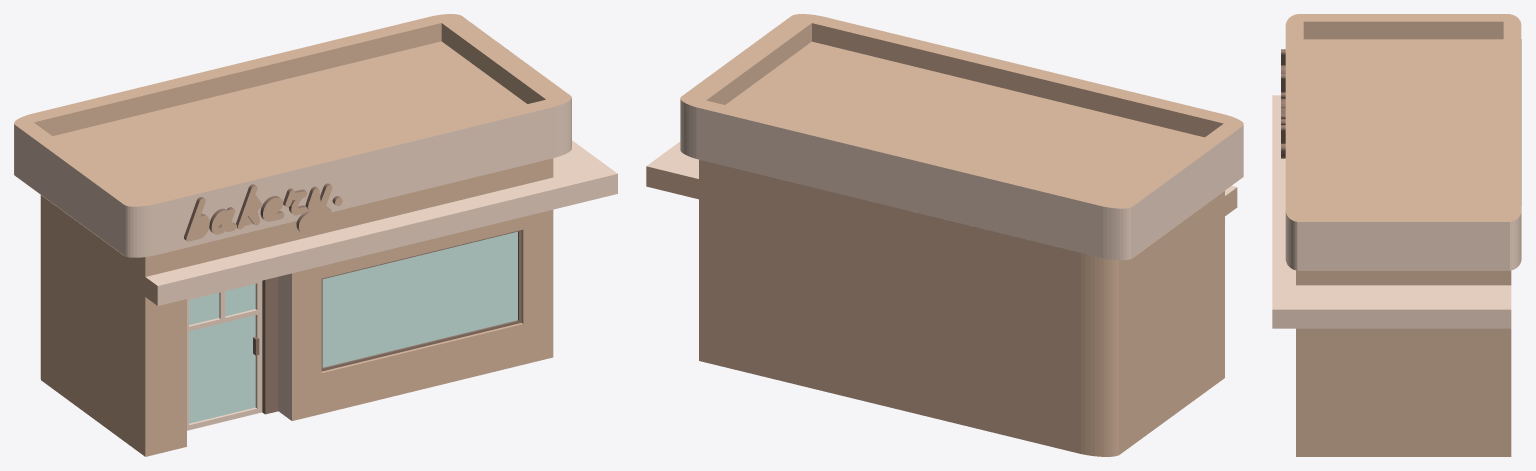
Rendered from Bakery.fbx.
3 views of the same model, side by side, from view 1: azimuth 30°, elevation 25°; view 2: azimuth 150°, elevation 25°; view 3: azimuth 270°, elevation 25° (orthographic). The views are drawn at different scales.
Visible parts, largest first — view 1: bakery; view 2: bakery; view 3: bakery.
Boxes of the visible parts, bbox=[...] form: bakery: bbox=[14, 14, 617, 456]; bakery: bbox=[646, 14, 1243, 456]; bakery: bbox=[1272, 14, 1521, 456].
Size of the model in its own units: 756 by 385 by 357.
